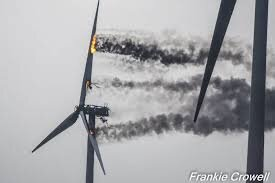faulty: (71, 13, 122, 153)
